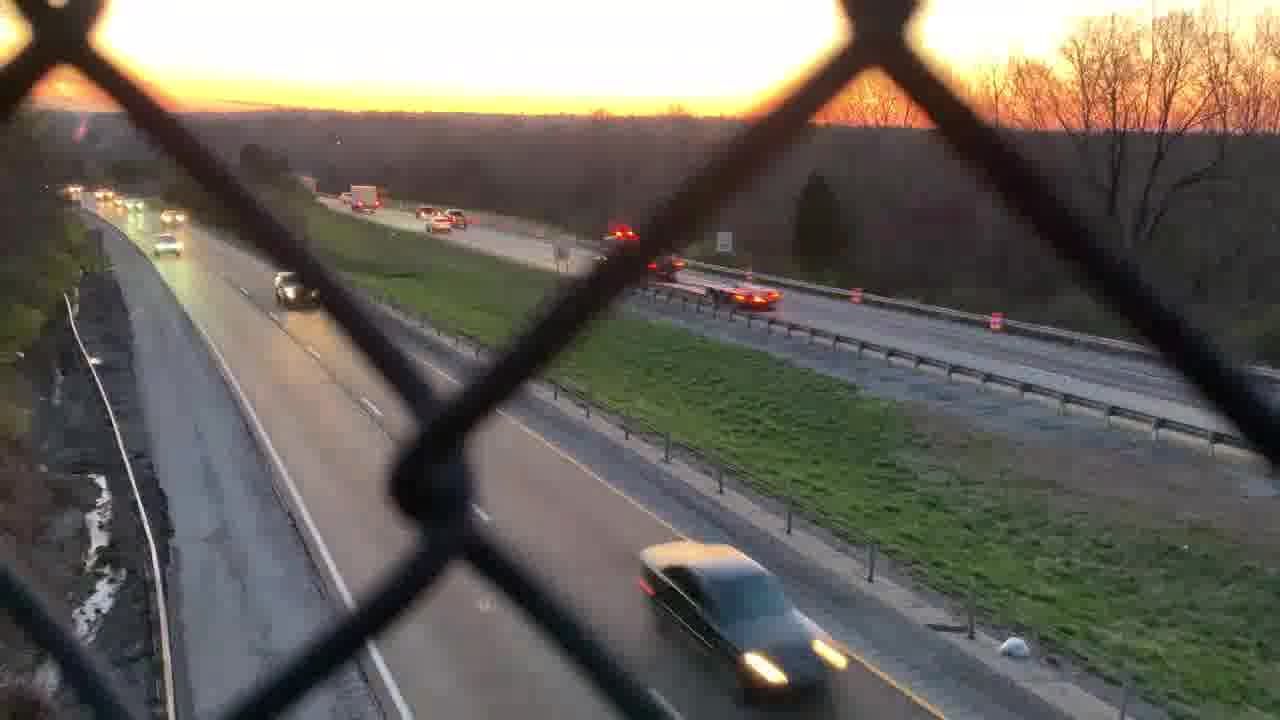heavyTruck: (606, 222, 777, 318)
smallCar: (636, 520, 841, 698)
